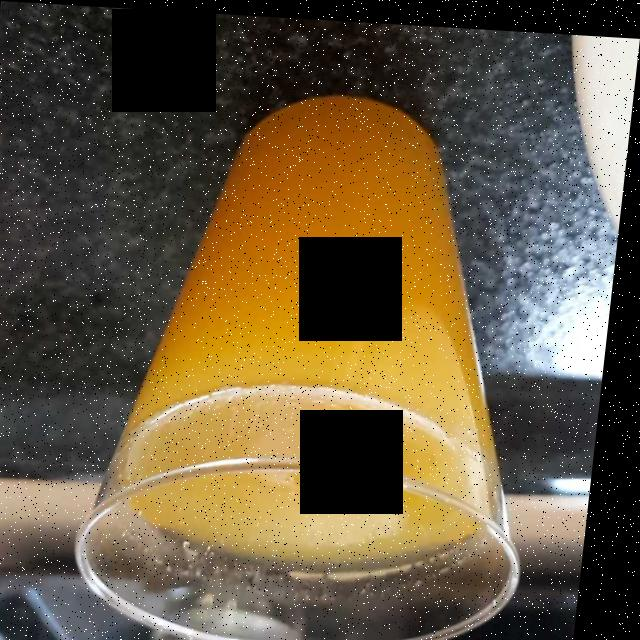juice-orange: (115, 93, 504, 584)
